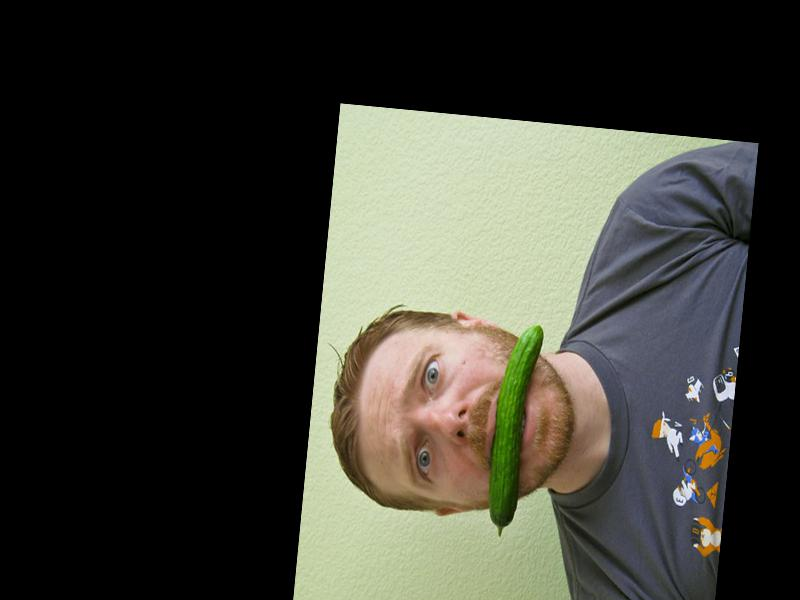Cucumber: (484, 320, 545, 539)
